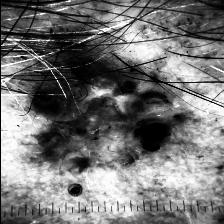Potentially Malignant Skin Tumors: (23, 30, 176, 200)
